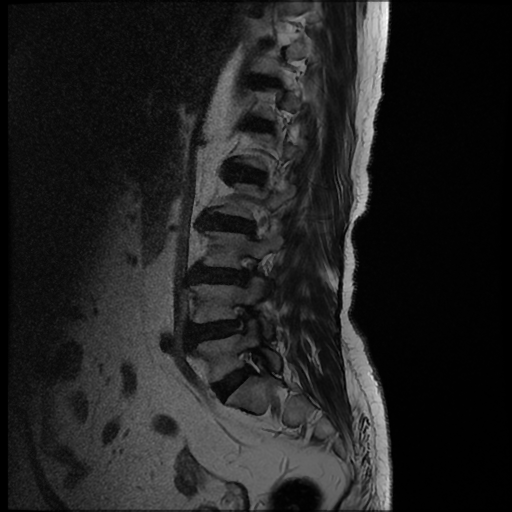RFS1: (228, 343, 267, 389)
RFS3: (227, 242, 268, 290), (223, 297, 259, 342)
